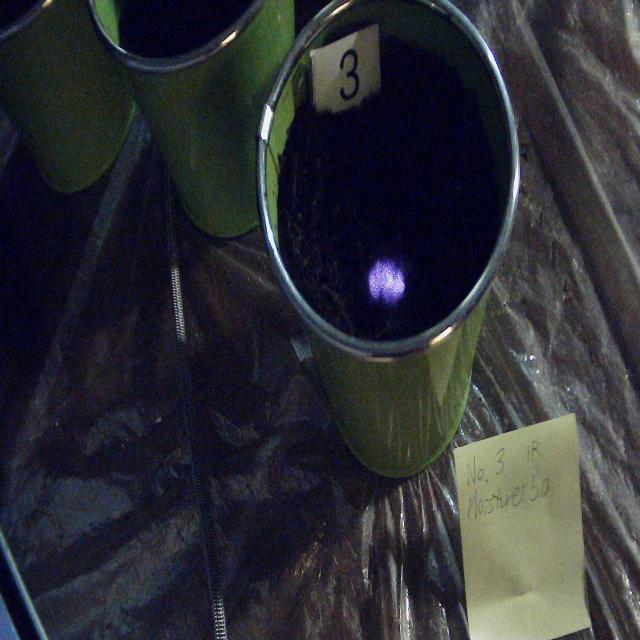soil-moisture-5.0: (368, 258, 406, 307)
